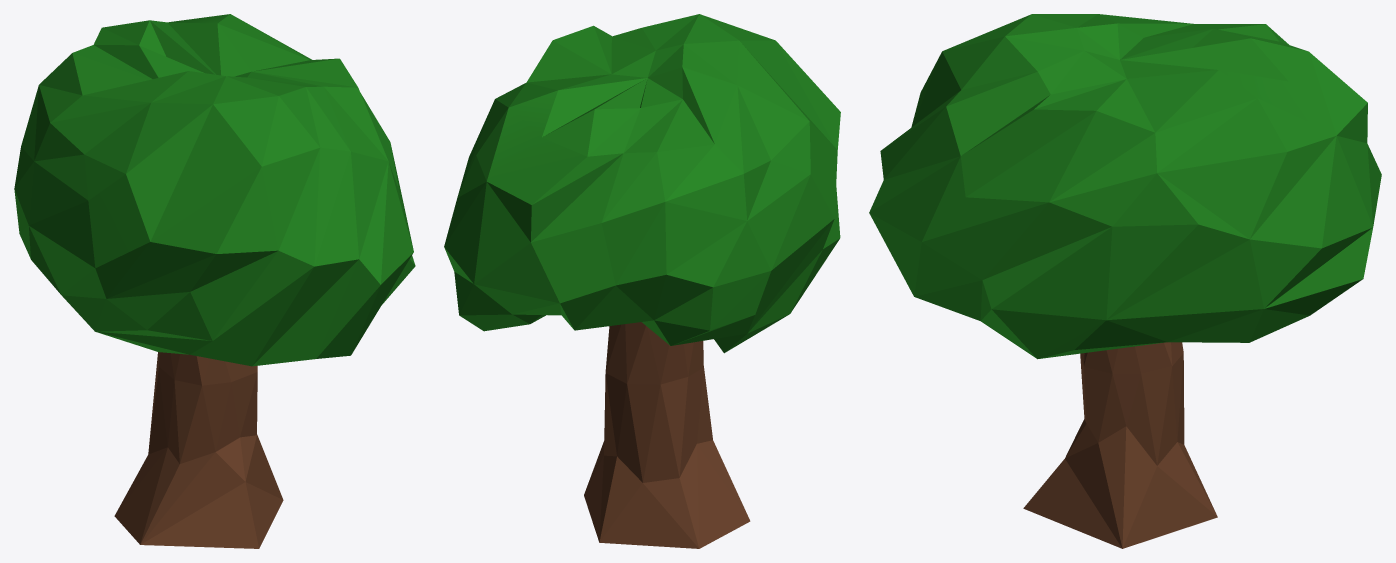
File: pho-cay.glb
3 renders of one model, left to right at view 1: azimuth 30°, elevation 25°; view 2: azimuth 150°, elevation 25°; view 3: azimuth 270°, elevation 25°, orthographic. The views are drawn at different scales.
Parts seen in each view (by area): view 1: pho-cay; view 2: pho-cay; view 3: pho-cay.
Part boxes in pixels (box(x1,y1,x2,y2)): pho-cay: box(14, 14, 415, 548); pho-cay: box(444, 14, 840, 548); pho-cay: box(869, 14, 1381, 548).
Size of the model in its own units: 14.46 by 20.51 by 19.78.
